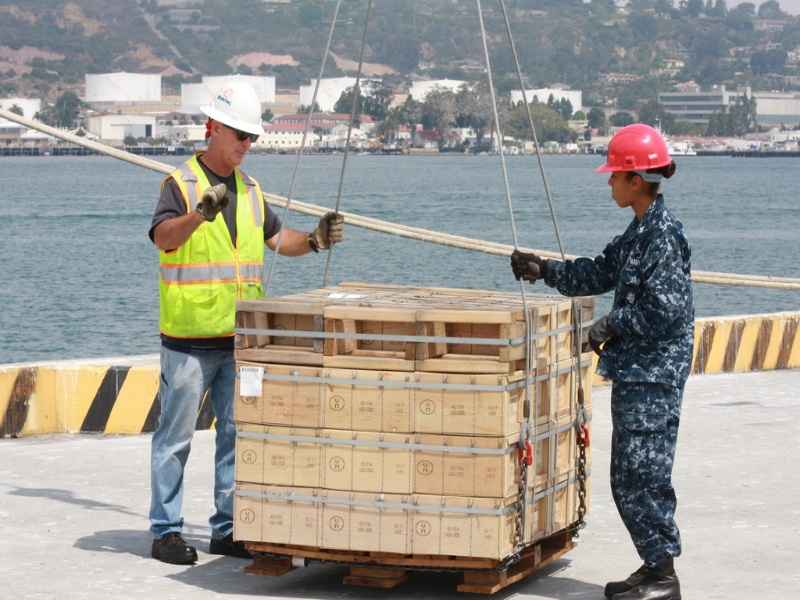helmet: (599, 123, 676, 173), (202, 79, 263, 134)
jacket: (159, 165, 267, 335)
